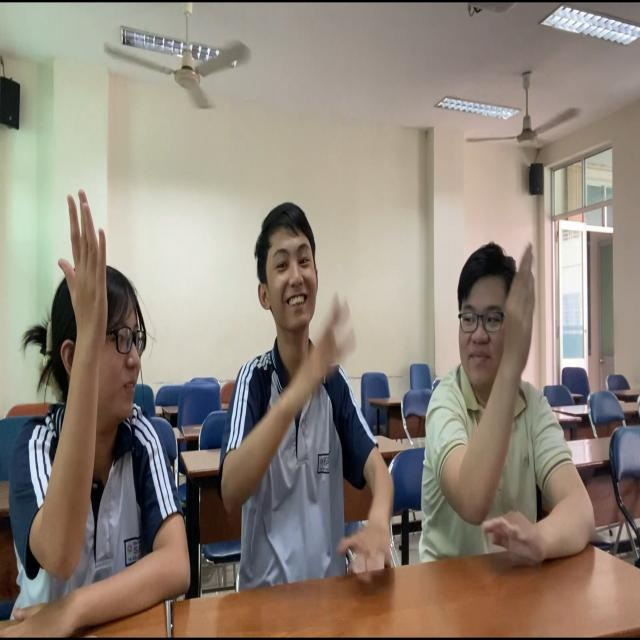raise_hand: (1, 180, 200, 640), (422, 241, 597, 589)
